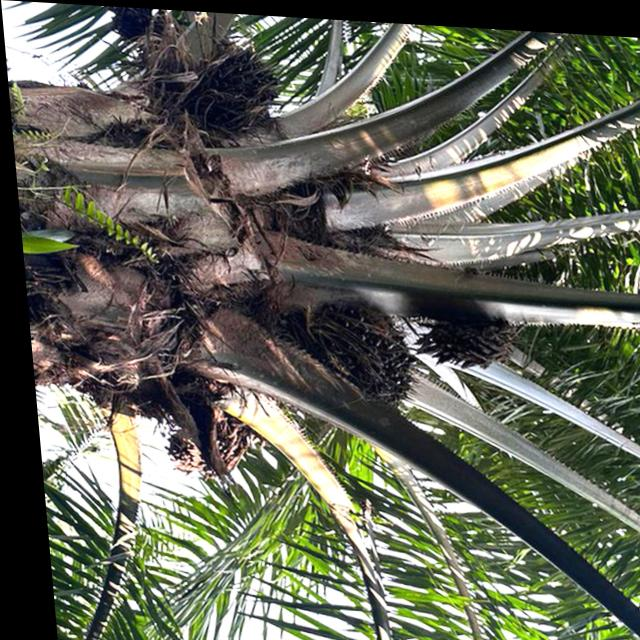ripe: (305, 288, 427, 416)
